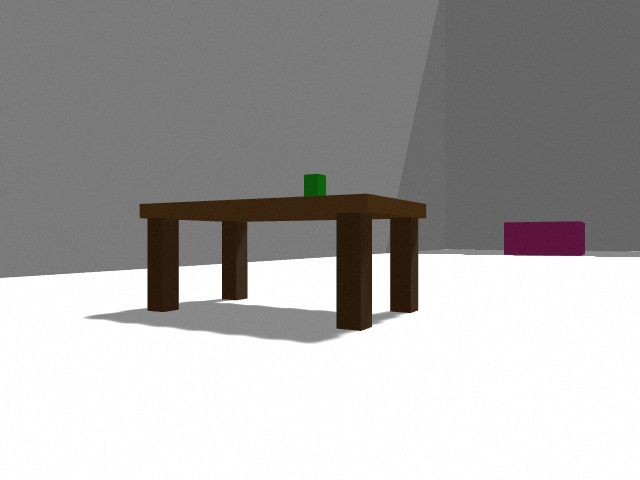green_cube: (304, 174, 326, 196)
red_drop_zone: (504, 221, 585, 256)
